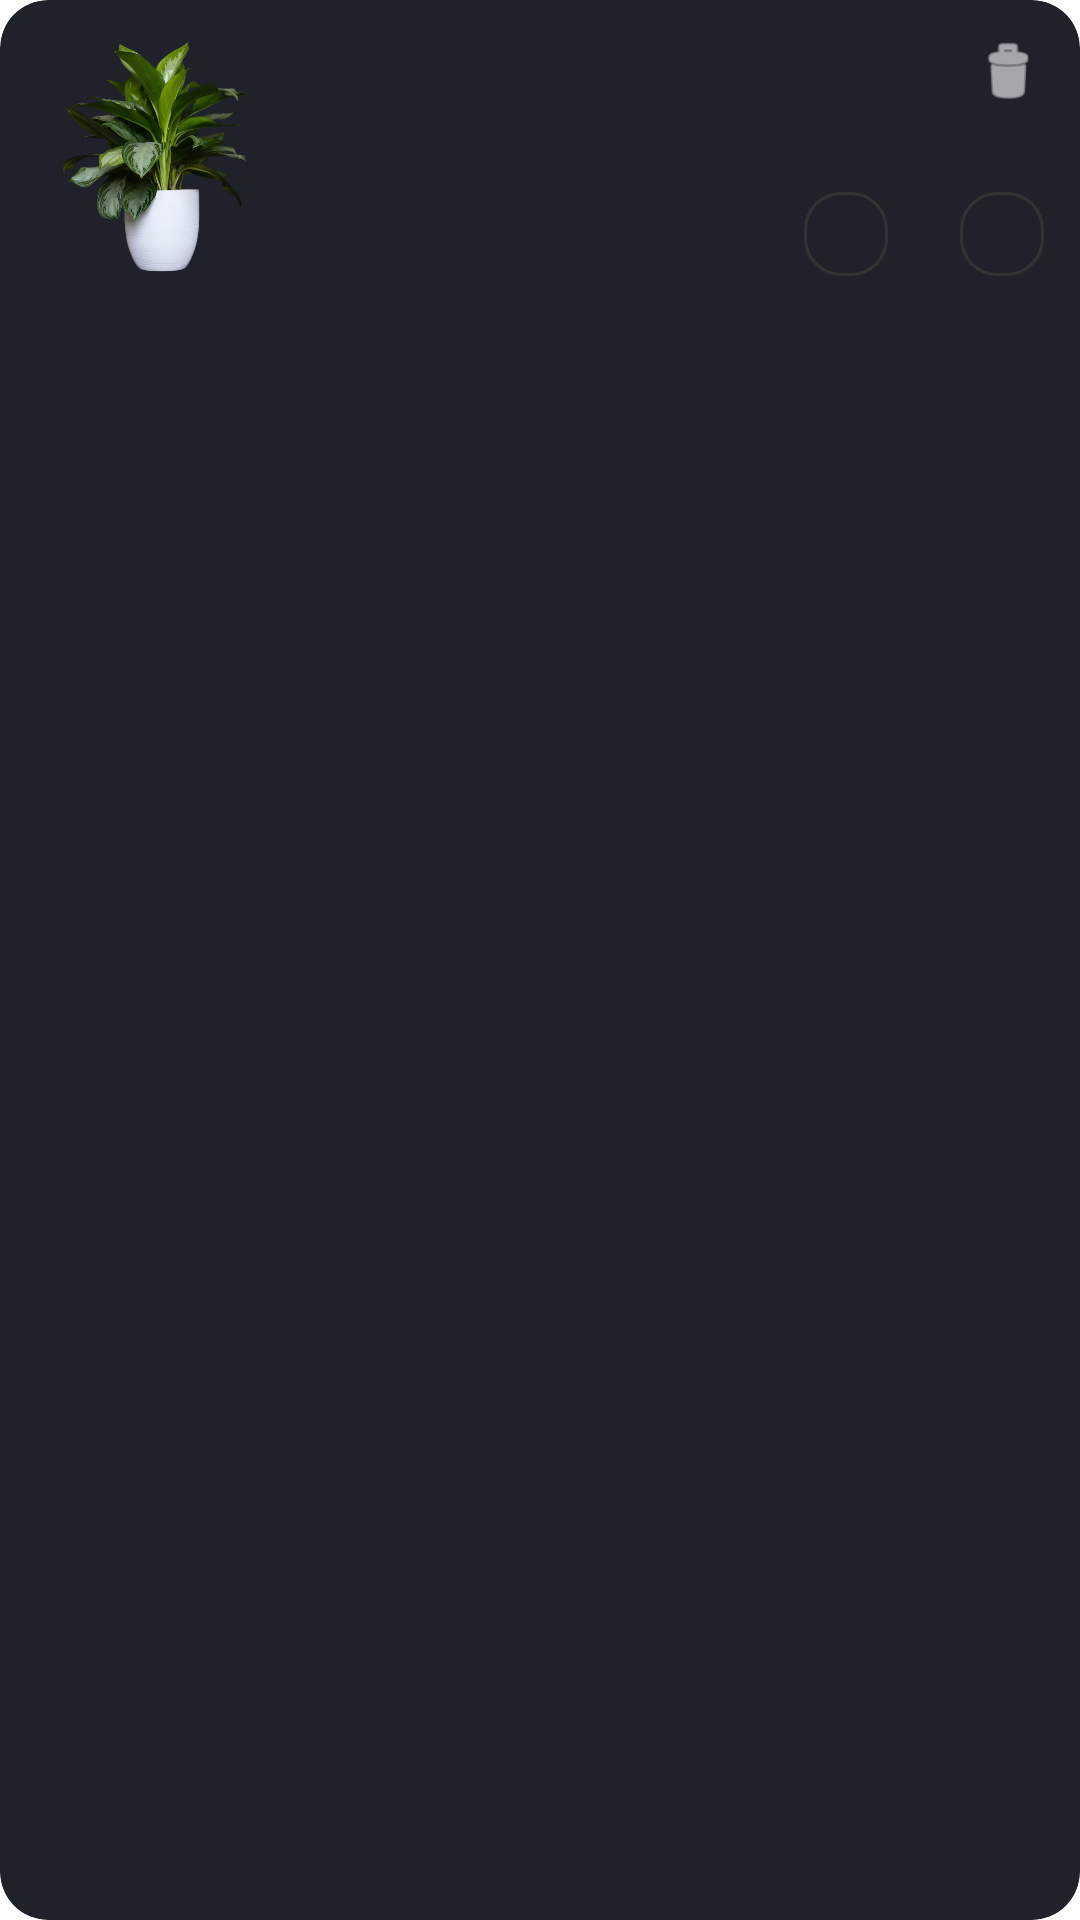

Icons on this 1080 x 1920 Android screen, each with its box as BBox(x1, y1, x2, y2):
delete: BBox(988, 43, 1029, 99)
plant: BBox(63, 42, 246, 271)
